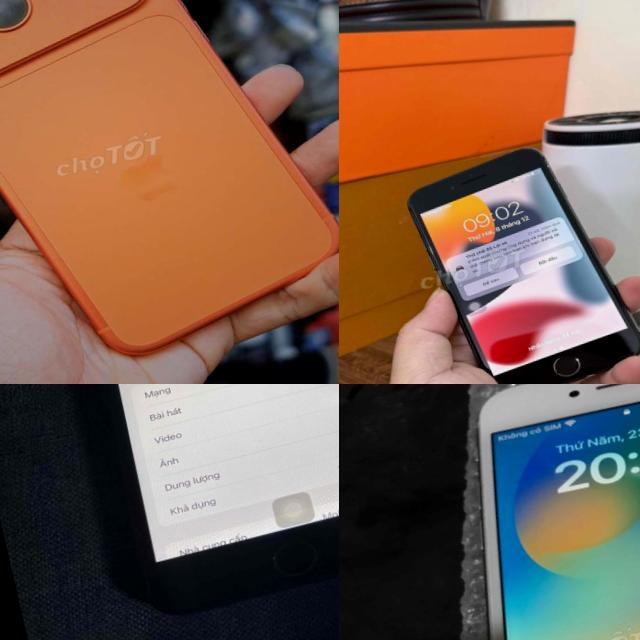scratch: (454, 166, 476, 180), (571, 353, 583, 365), (513, 380, 536, 384)
